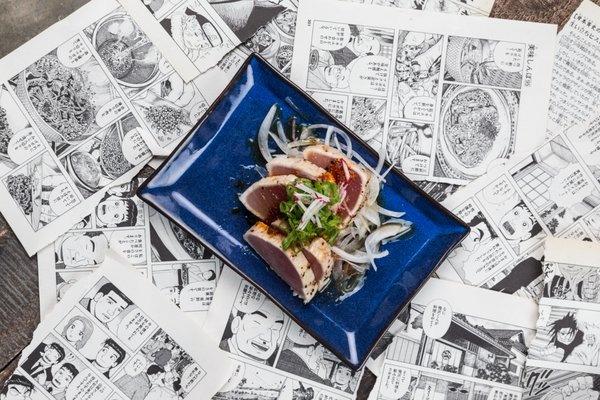sandwich: (241, 150, 382, 303)
